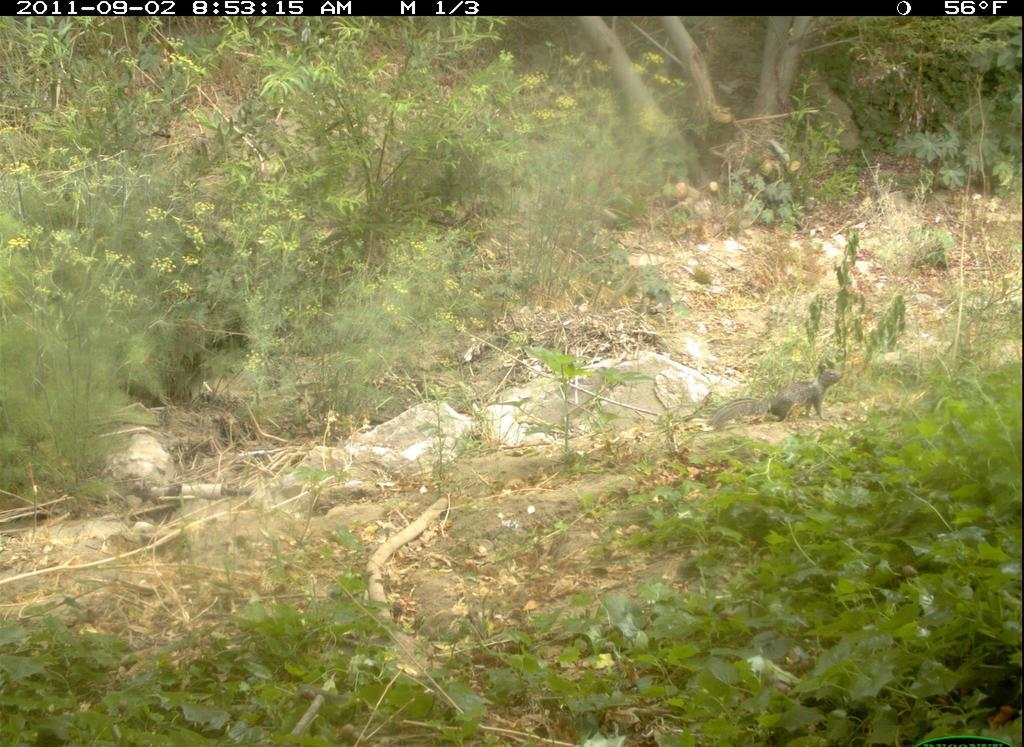squirrel: (710, 360, 858, 451)
